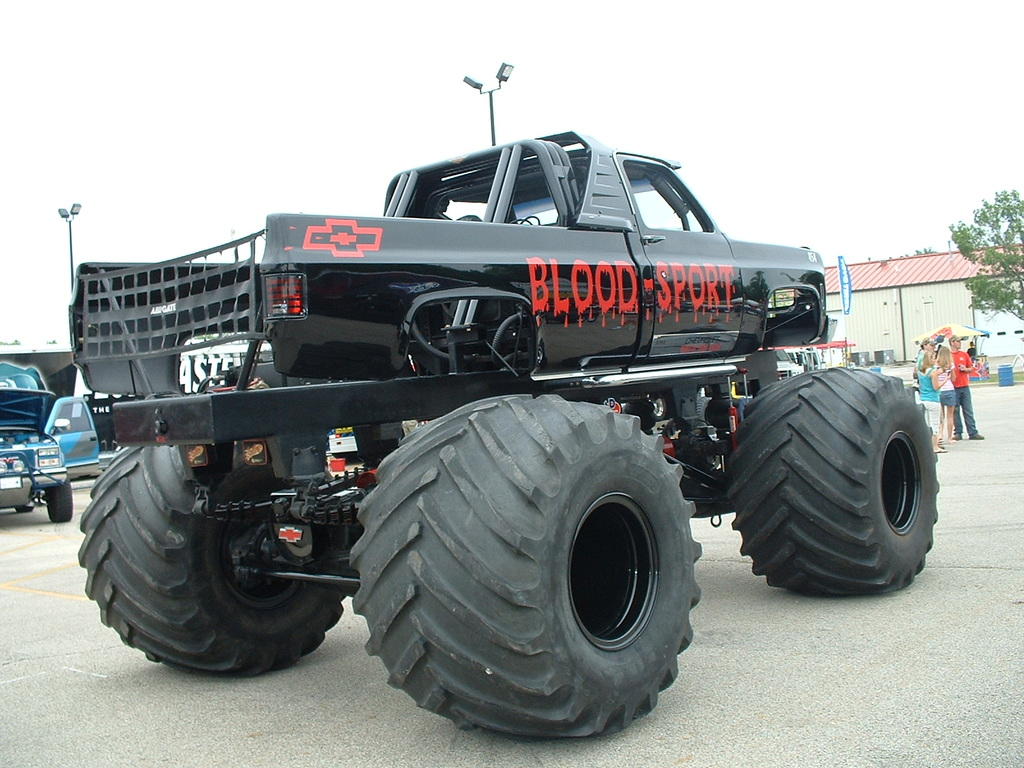Car: (0, 382, 98, 520)
